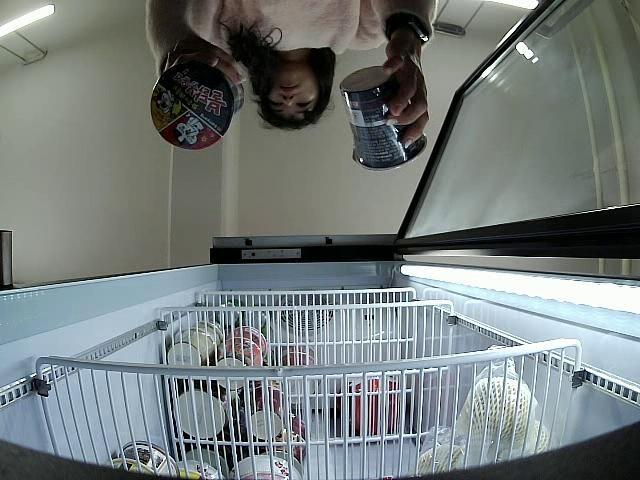08_buldak_S: (342, 66, 428, 170), (150, 61, 245, 150)
